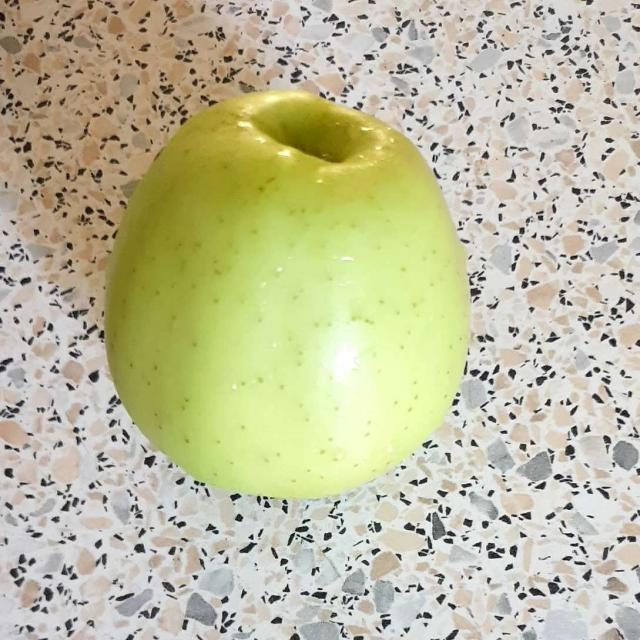apple: (111, 95, 464, 495)
